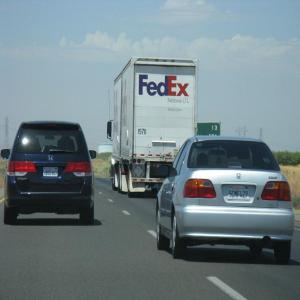Vehicle-registration-plate: (227, 186, 251, 203), (44, 168, 59, 179)
